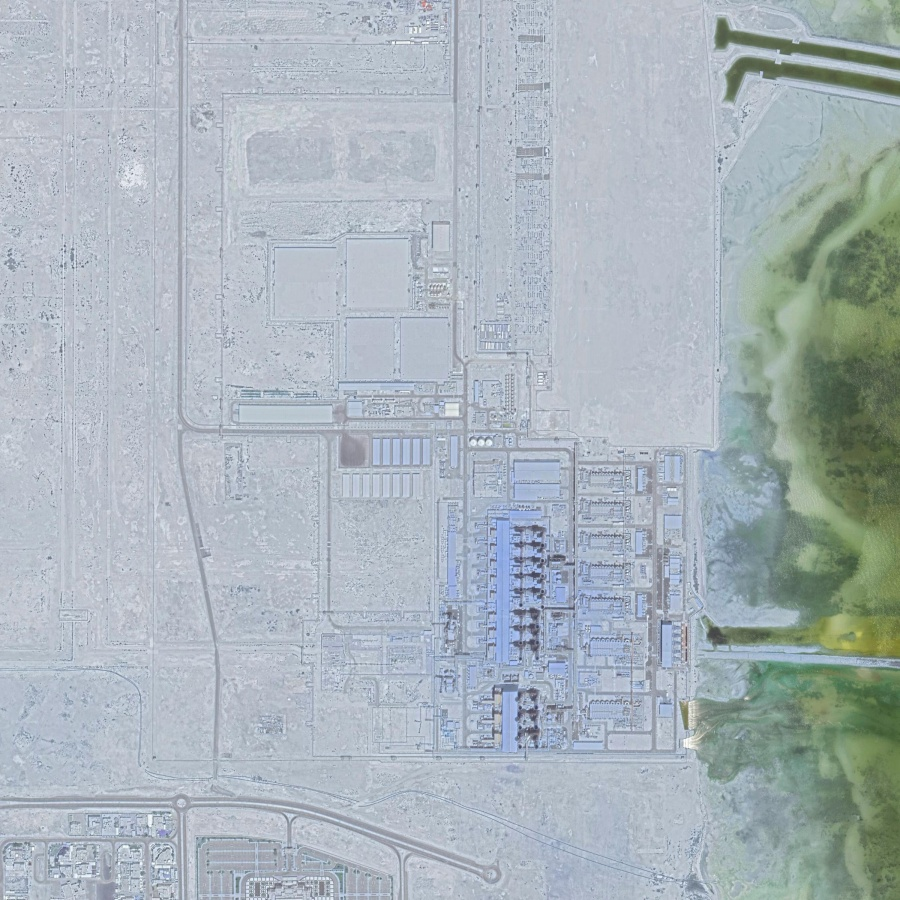PowerPlant: (458, 427, 718, 753)
